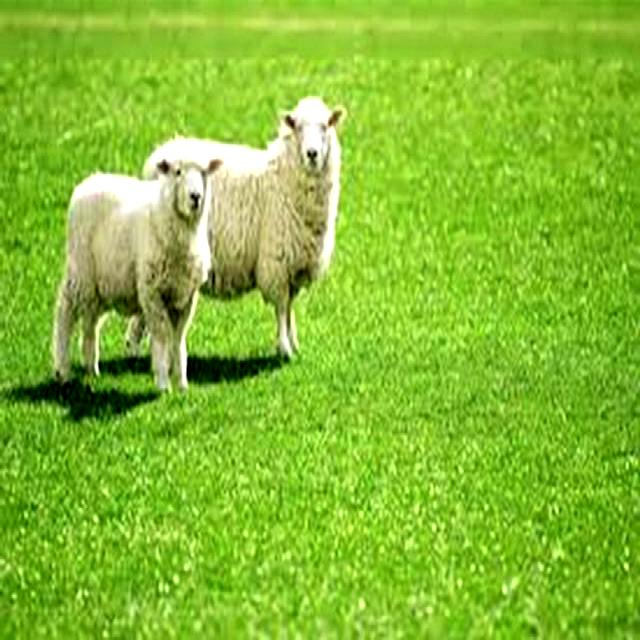sheep: (144, 97, 346, 358), (50, 162, 215, 395)
